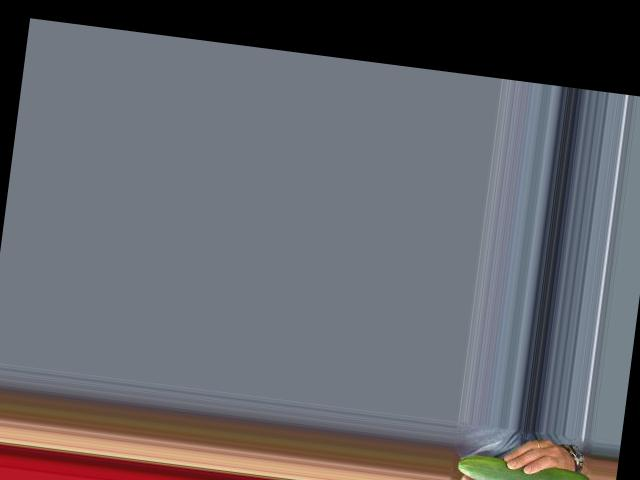cucumber: (456, 451, 592, 480)
